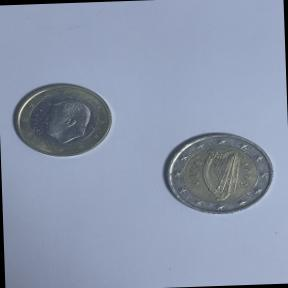coin: (154, 127, 278, 220), (7, 77, 116, 163)
